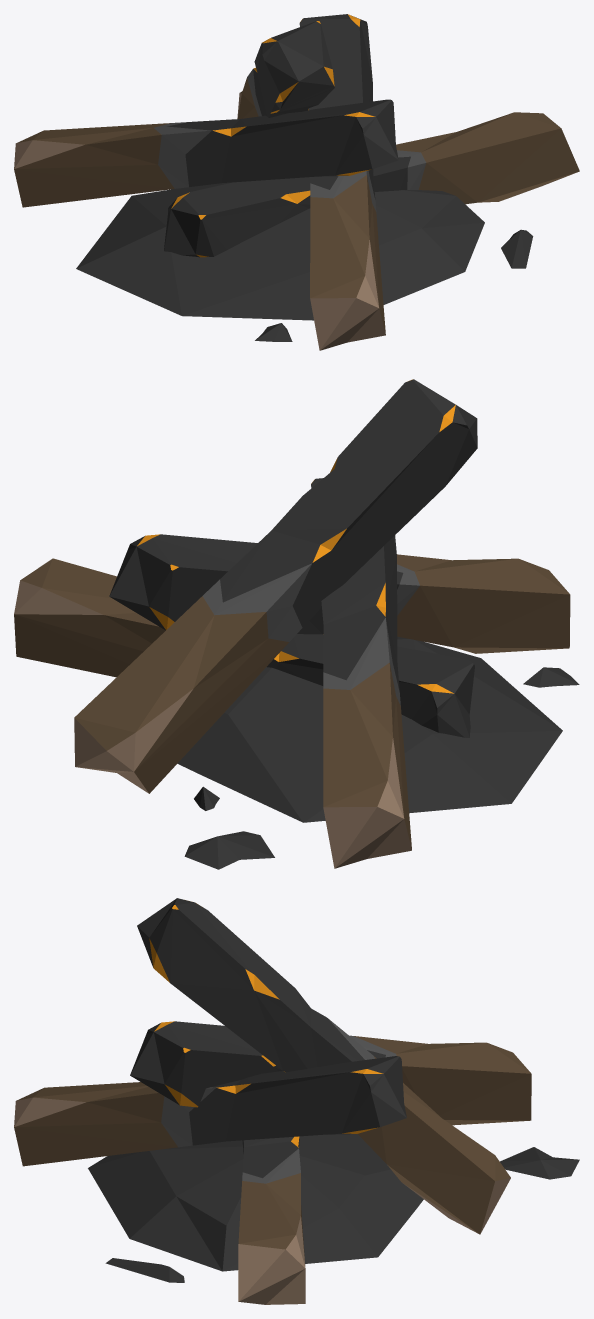
File: Bonfire_02.FBX
The picture shows the model from 3 angles, top to bottom: view 1: azimuth 30°, elevation 25°; view 2: azimuth 150°, elevation 25°; view 3: azimuth 270°, elevation 25°; orthographic projection. The views are drawn at different scales.
Parts seen in each view (by area): view 1: Bonfire_02; view 2: Bonfire_02; view 3: Bonfire_02.
Part boxes in pixels (<box>): Bonfire_02: <box>14,14,579,350</box>; Bonfire_02: <box>14,379,579,869</box>; Bonfire_02: <box>14,898,579,1304</box>.
Size of the model in its own units: 1.26 by 0.6999 by 1.32.
